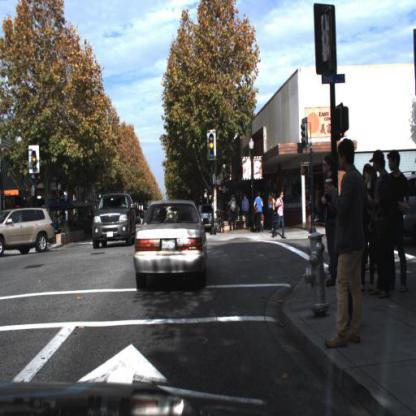car: (134, 200, 211, 295), (1, 206, 56, 257), (91, 192, 139, 248)
pedestrian: (324, 137, 363, 349), (387, 151, 413, 300), (370, 150, 393, 300), (319, 152, 338, 290), (363, 163, 378, 298), (274, 192, 290, 238), (273, 190, 287, 241), (253, 191, 265, 232), (227, 193, 239, 231), (254, 195, 265, 233), (242, 193, 252, 227), (269, 192, 277, 228), (242, 196, 250, 219)
trafficLight-Yellow: (208, 129, 218, 162), (29, 145, 39, 177)
